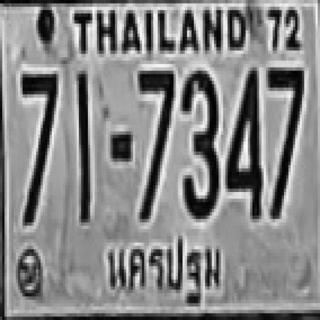N01: (76, 67, 89, 219)
N03: (180, 67, 216, 216)
N04: (226, 64, 262, 216)
N07: (136, 67, 172, 219), (267, 64, 303, 216), (20, 71, 56, 219), (20, 71, 56, 175)
P28: (102, 233, 227, 309)
